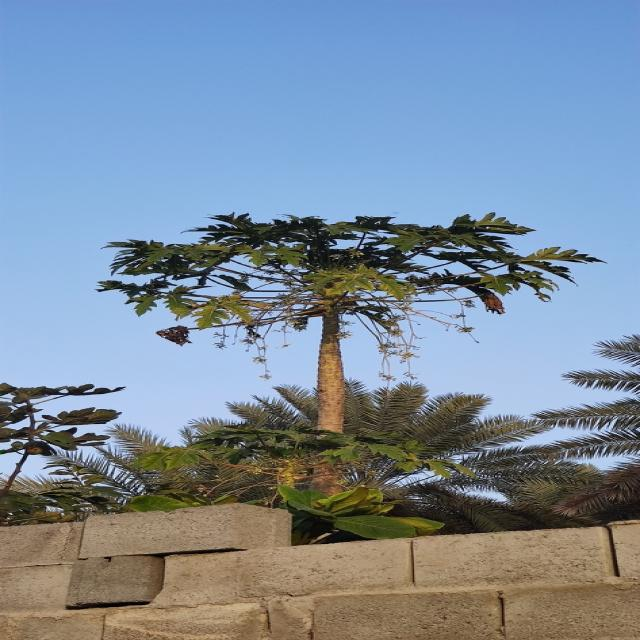Papaya-Tree: (96, 206, 598, 413)
